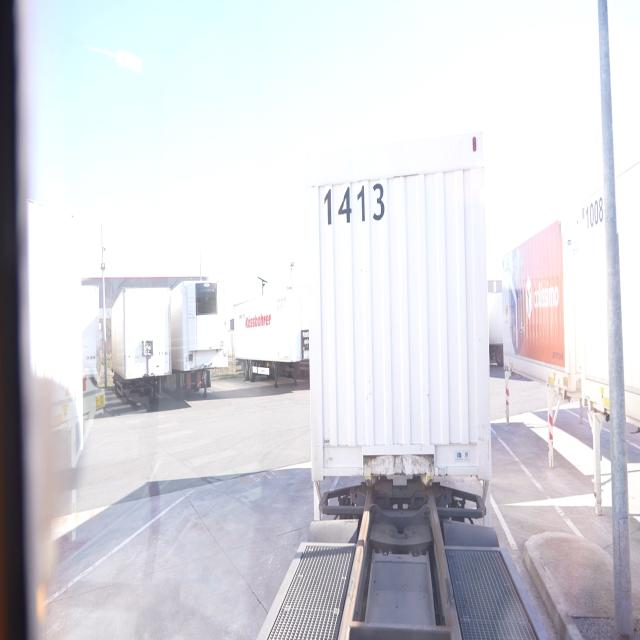Code: (317, 178, 390, 225), (581, 194, 610, 234)
